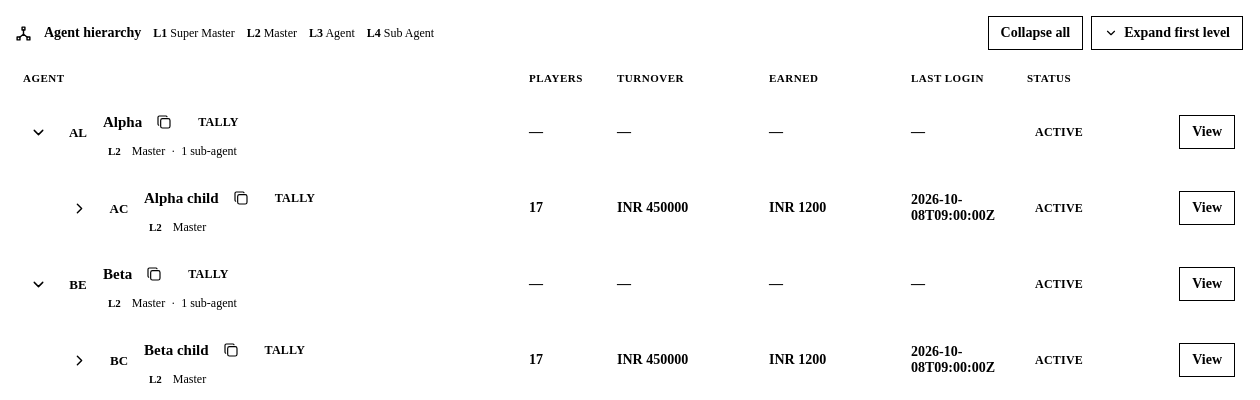
out-of-order sibling responses stay in their own branches; a collapsed branch reopens from its cache
Earlier steps of the test are not shown.
Expected: the link "Beta child" is shown, [144, 342, 209, 358]
Expected: the link "Alpha child" is shown, [144, 190, 219, 206]
What coordinates should you click on to do the following:
click the button named "Collapse Alpha"
I would click on:
 (38, 132)
Its box is [23, 115, 53, 149].
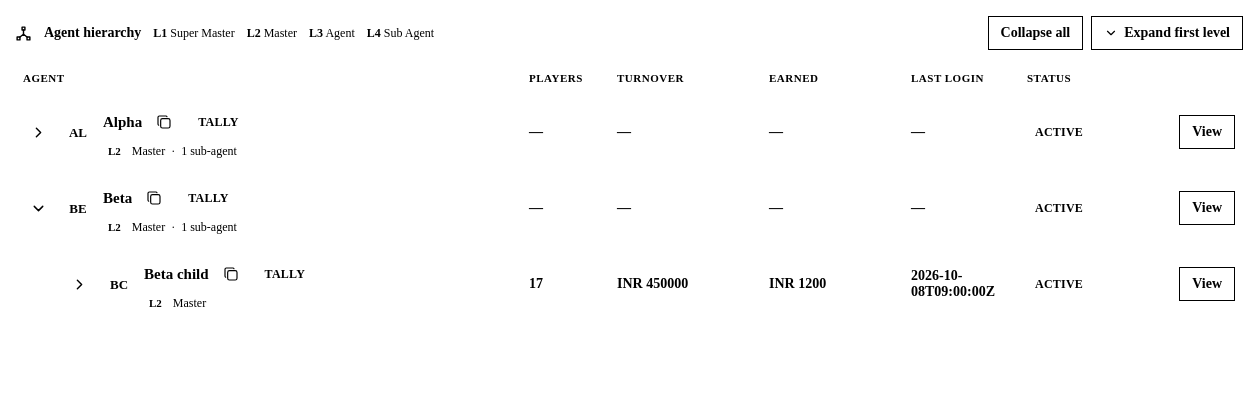
What coordinates should you click on to do the following:
click the button named "Expand Alpha"
I would click on:
 (38, 132)
Its box is [23, 115, 53, 149].
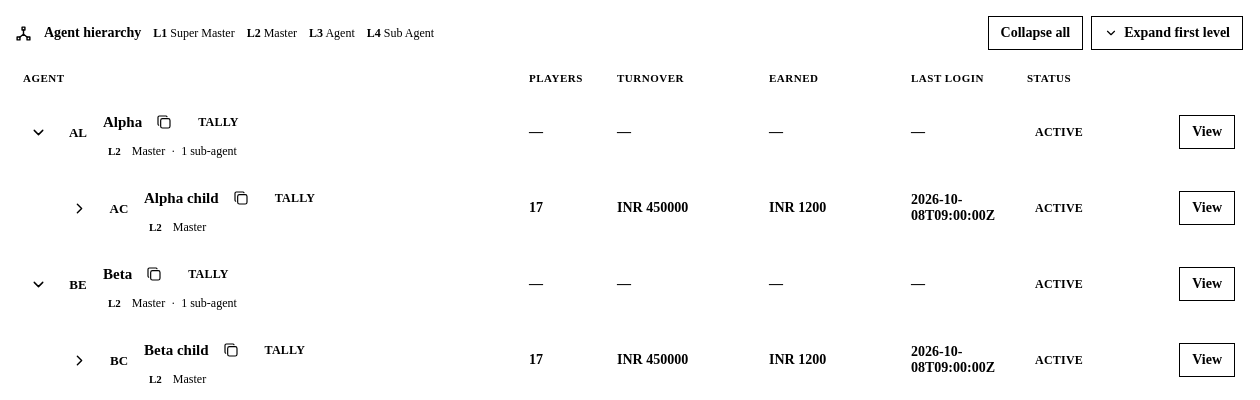
Expected: the list named "Sub-agents of Alpha" is shown, [56, 170, 1243, 246]
